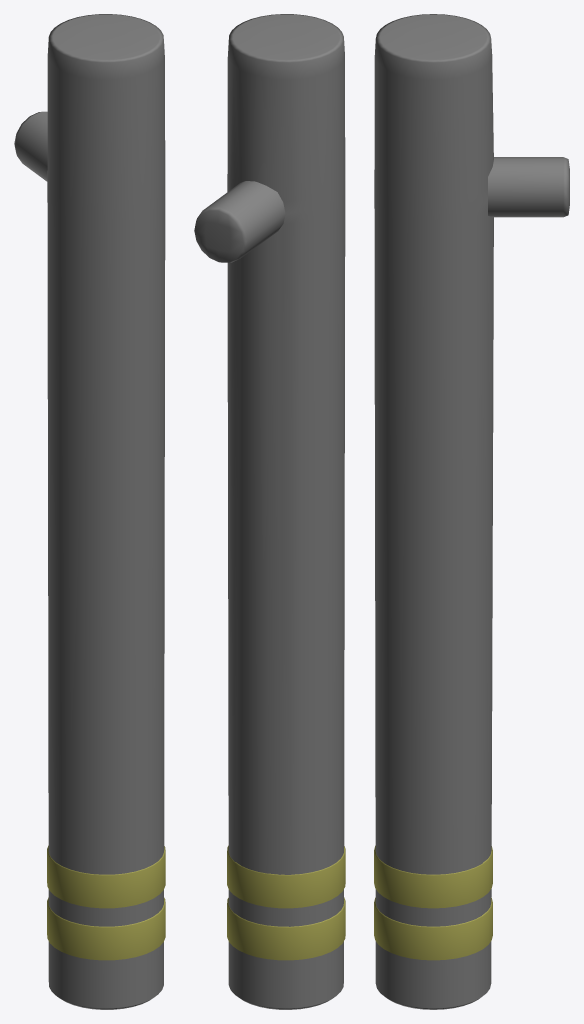
The model's file is aruhula_dentyu_tan.fbx.
3 renders of one model, left to right at view 1: azimuth 30°, elevation 25°; view 2: azimuth 150°, elevation 25°; view 3: azimuth 270°, elevation 25°, orthographic.
Visible parts, largest first — view 1: dentyuu1, moyou4, moyou3; view 2: dentyuu1, moyou4, moyou3; view 3: dentyuu1, moyou4, moyou3.
Part boxes in pixels (left/top/right/bottom): dentyuu1: left=14, top=14, right=165, bottom=1009; moyou4: left=47, top=897, right=165, bottom=960; moyou3: left=47, top=845, right=165, bottom=908; dentyuu1: left=194, top=14, right=345, bottom=1009; moyou4: left=227, top=897, right=345, bottom=960; moyou3: left=227, top=845, right=345, bottom=908; dentyuu1: left=374, top=14, right=569, bottom=1009; moyou4: left=374, top=897, right=492, bottom=960; moyou3: left=374, top=845, right=492, bottom=908.
Bounding box in the file's own units: 1.58 × 13.96 × 2.61.
